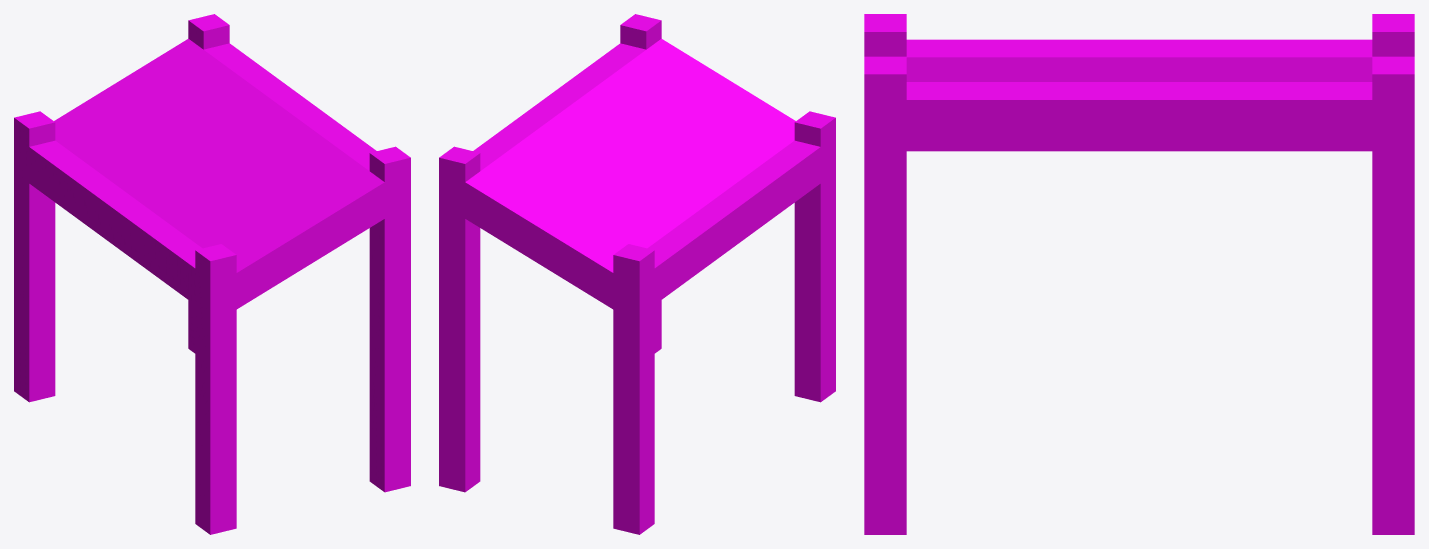
The model's file is ext_city_stall025.fbx.
3 views of the same model, side by side, from view 1: azimuth 30°, elevation 25°; view 2: azimuth 150°, elevation 25°; view 3: azimuth 270°, elevation 25° (orthographic). The views are drawn at different scales.
Visible parts, largest first — view 1: ext_city_stall025; view 2: ext_city_stall025; view 3: ext_city_stall025.
Part boxes in pixels (x1,y1,x2,y2): ext_city_stall025: [14, 14, 410, 534]; ext_city_stall025: [439, 14, 835, 534]; ext_city_stall025: [864, 14, 1414, 534].
Bounding box in the file's own units: 2.88 × 4.5 × 4.88.
